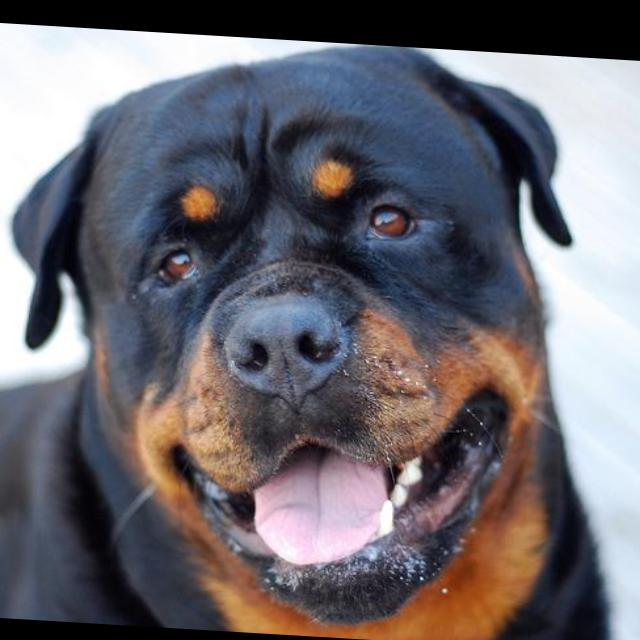rottweiler: (1, 24, 617, 640)
